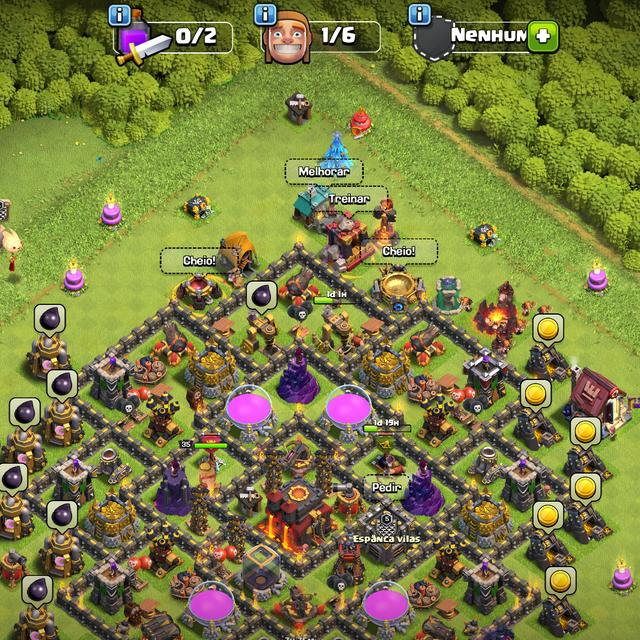ElixirNegro: (9, 397, 42, 428), (46, 500, 80, 530), (34, 304, 66, 334), (46, 370, 78, 400), (22, 574, 54, 604), (246, 280, 278, 310), (0, 462, 29, 492)
coin: (532, 312, 564, 344), (521, 377, 552, 409), (570, 416, 603, 446), (571, 472, 602, 502), (546, 566, 577, 596), (533, 501, 563, 531)
